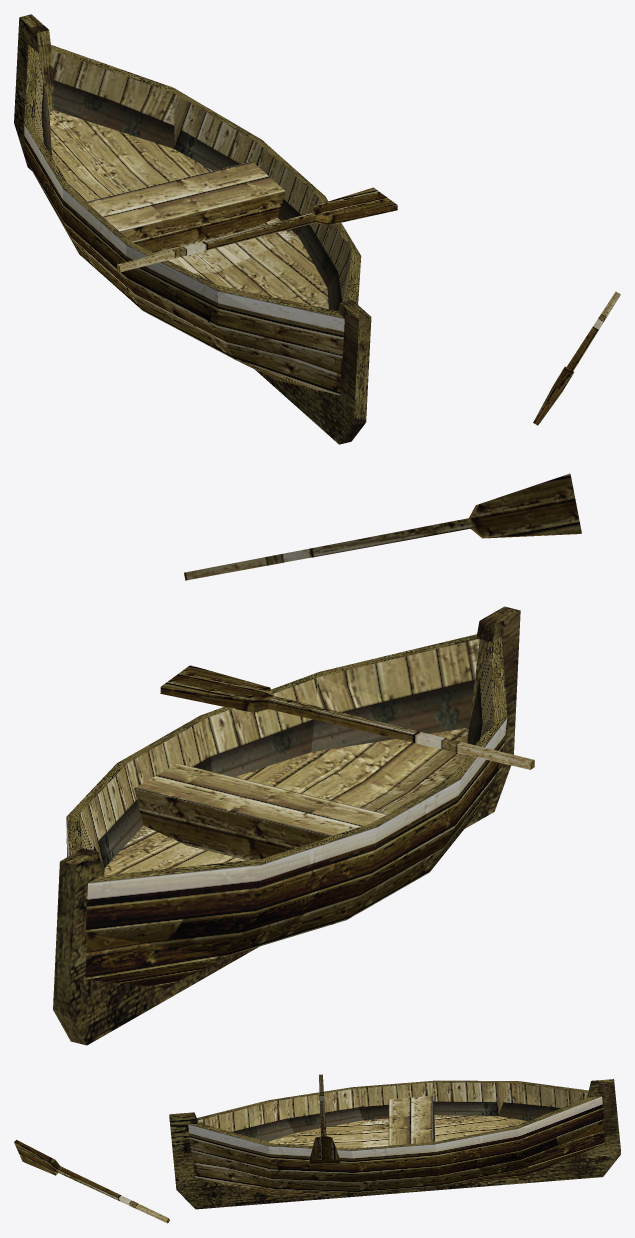
The model's file is iber_dock_boat.dae.
3 views of the same model, one above another, from view 1: azimuth 30°, elevation 25°; view 2: azimuth 150°, elevation 25°; view 3: azimuth 270°, elevation 25° (orthographic). The views are drawn at different scales.
Parts seen in each view (by area): view 1: Cube; view 2: Cube; view 3: Cube.
Boxes of the visible parts, bbox=[...] form: Cube: bbox=[14, 14, 620, 444]; Cube: bbox=[53, 473, 581, 1045]; Cube: bbox=[14, 1074, 620, 1223].
Size of the model in its own units: 7.05 by 14.73 by 3.38.
